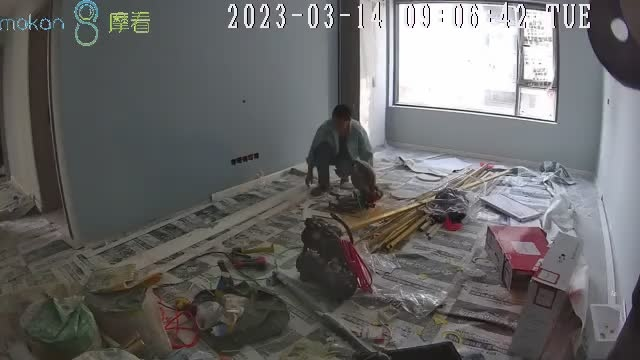people: (305, 104, 374, 196)
window: (393, 4, 557, 121)
